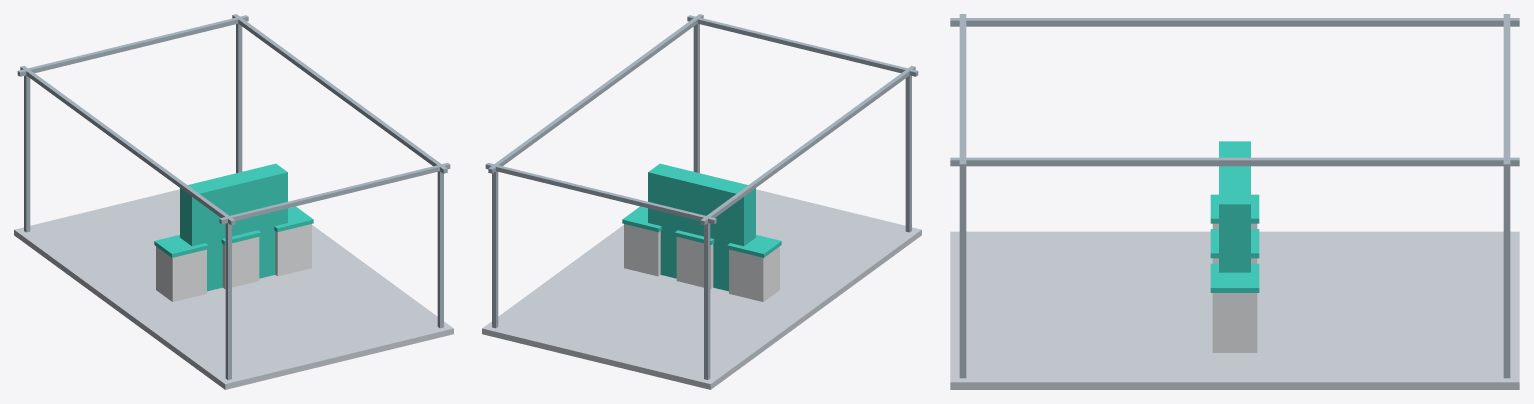
3 views of the same model, side by side, from view 1: azimuth 30°, elevation 25°; view 2: azimuth 150°, elevation 25°; view 3: azimuth 270°, elevation 25° (orthographic). The views are drawn at different scales.
Parts seen in each view (by area): view 1: Exhibition Booth Concept; view 2: Exhibition Booth Concept; view 3: Exhibition Booth Concept.
Boxes of the visible parts, <box> form: Exhibition Booth Concept: <box>14,14,453,389</box>; Exhibition Booth Concept: <box>482,14,921,389</box>; Exhibition Booth Concept: <box>950,14,1519,389</box>.
Bounding box in the file's own units: 5 × 3.49 × 8.
